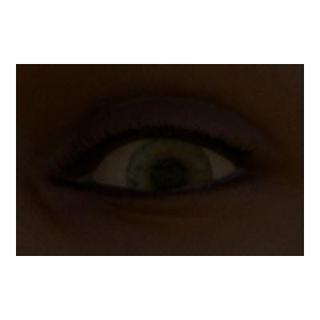pupil: (152, 160, 187, 194)
